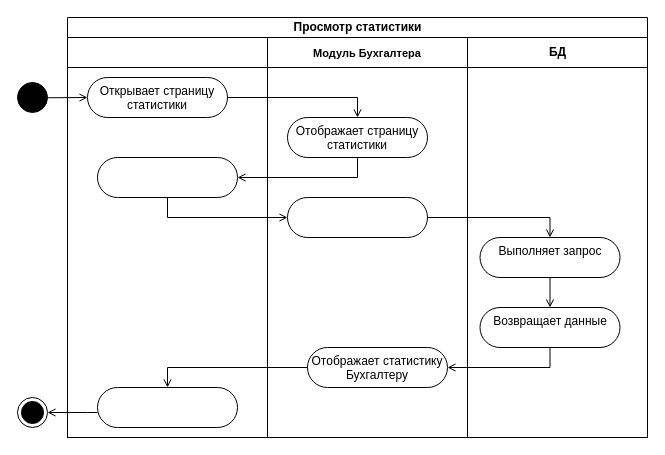
This 665x455 diagram has some shape labels left out. Each missing label, with the box of its shape:
Бухгалтер: (66, 36, 268, 438)
Нажимает на кнопку отображения статистики: (96, 156, 238, 198)
Отправляет запрос к БД: (286, 196, 428, 238)
Просматривает статистику: (96, 386, 238, 428)
